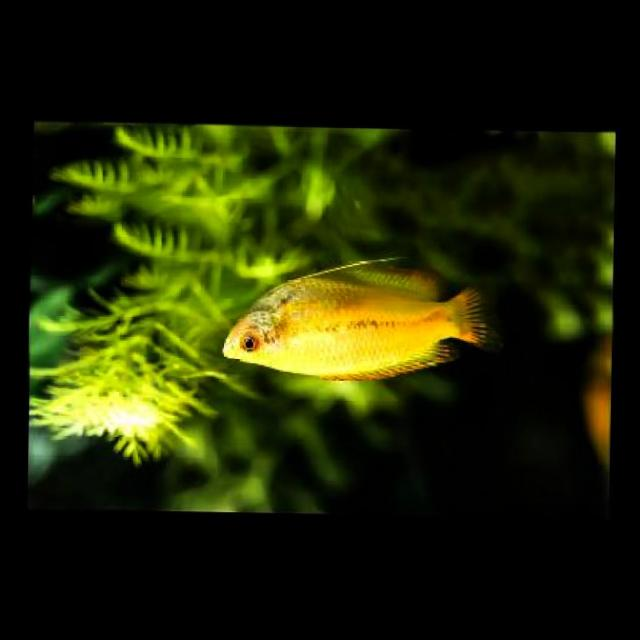Gourami: (218, 261, 497, 389)
